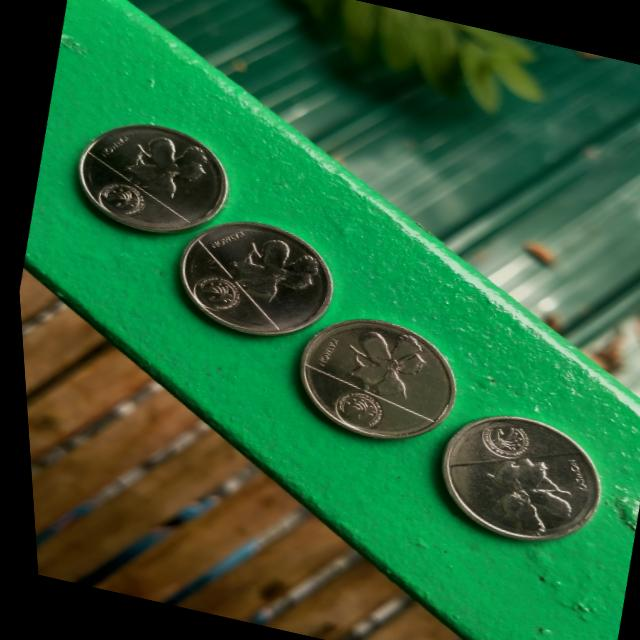25Cent_New_Back: (310, 318, 433, 442), (83, 126, 212, 237)
